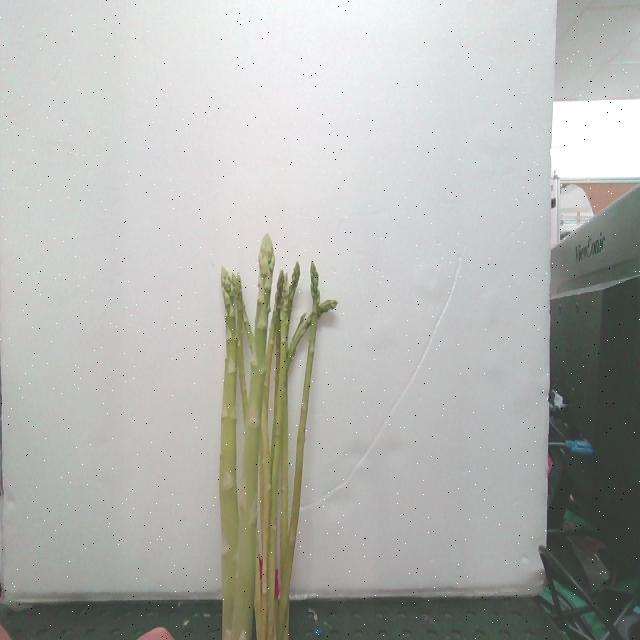aspargus: (231, 232, 276, 640)
